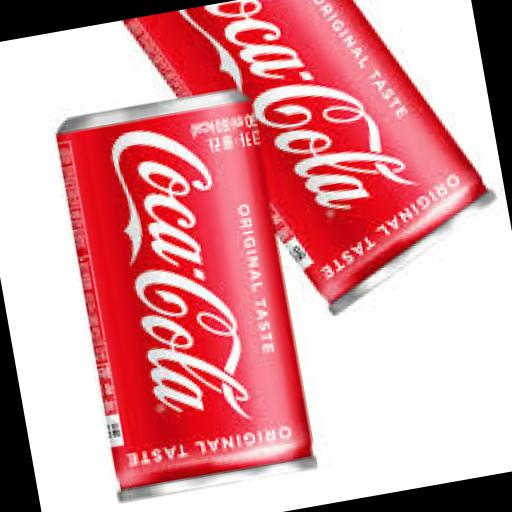Coca: (109, 0, 511, 343), (30, 73, 335, 512)
